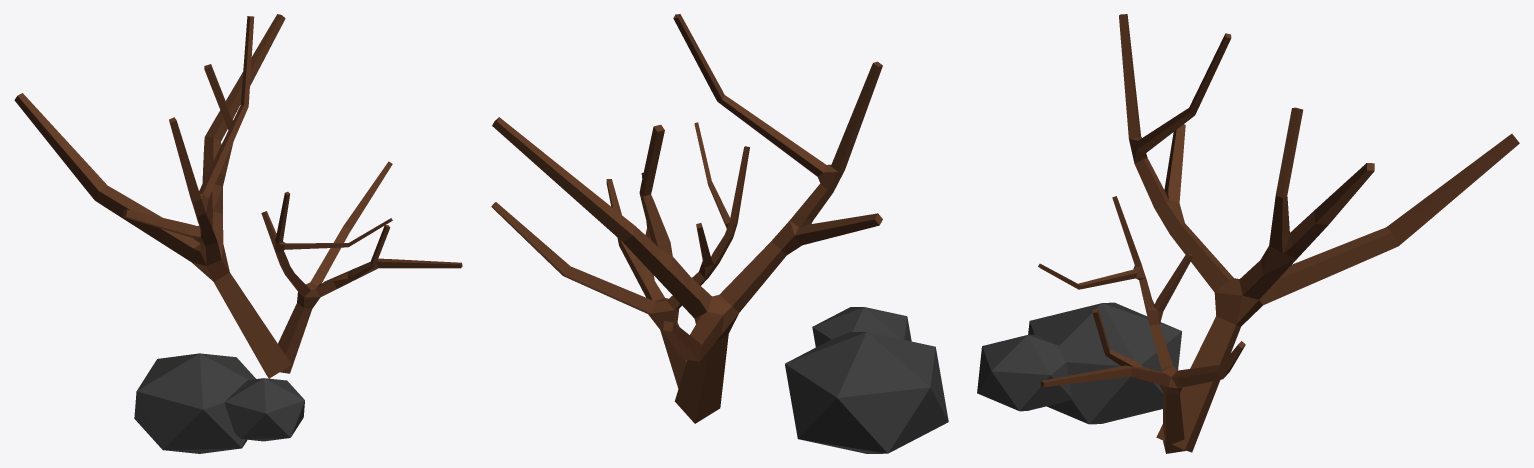
The model's file is DeadBush.fbx.
3 views of the same model, side by side, from view 1: azimuth 30°, elevation 25°; view 2: azimuth 150°, elevation 25°; view 3: azimuth 270°, elevation 25° (orthographic). The views are drawn at different scales.
Visible parts, largest first — view 1: Cube.029; view 2: Cube.029; view 3: Cube.029.
Boxes of the visible parts, bbox=[...] form: Cube.029: bbox=[14, 14, 462, 453]; Cube.029: bbox=[491, 14, 948, 453]; Cube.029: bbox=[977, 14, 1519, 453].
Bounding box in the file's own units: 170 × 197 × 215.
